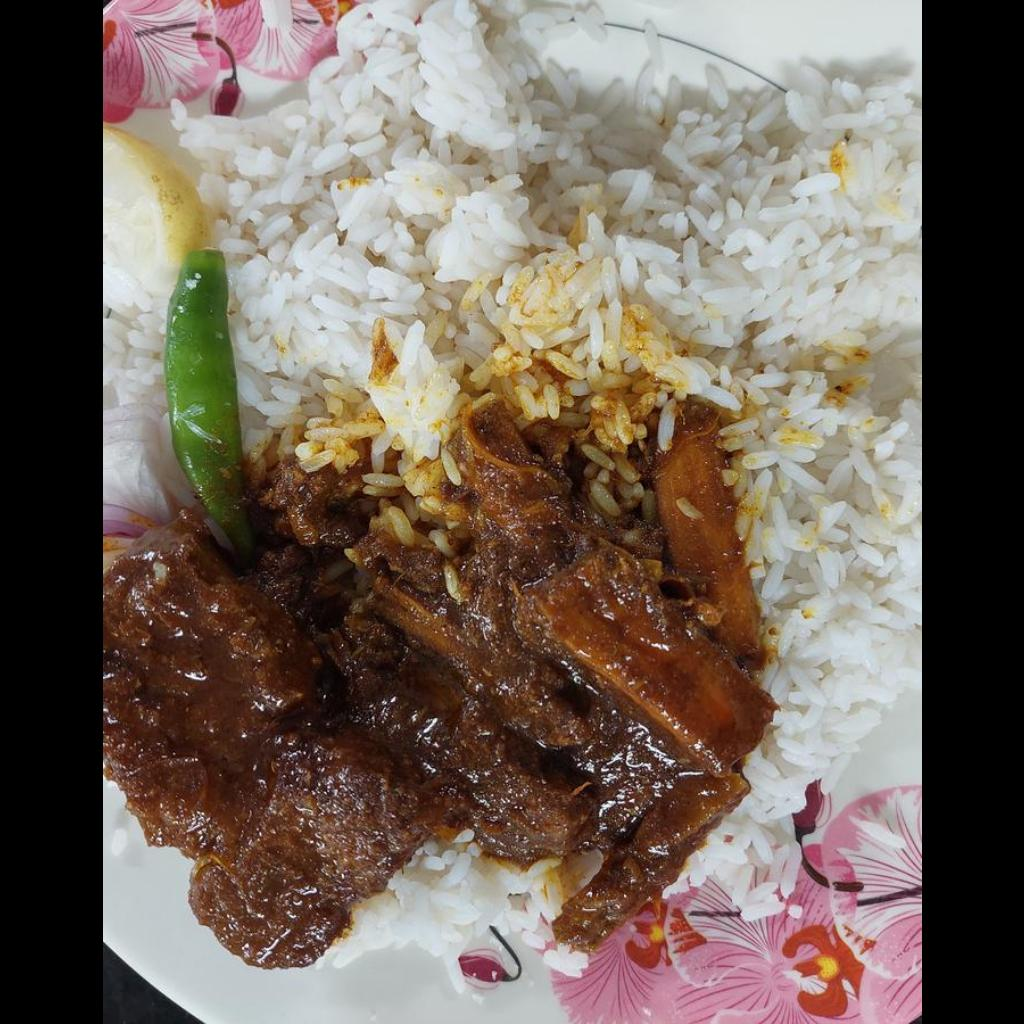beef: (102, 405, 769, 968)
rice: (179, 4, 920, 932)
